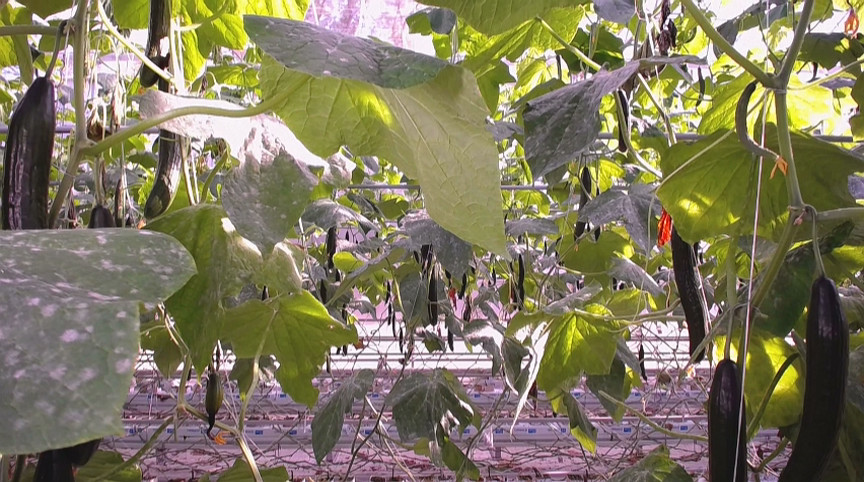cucumber: (779, 277, 848, 480), (1, 78, 57, 231), (669, 227, 707, 363), (710, 359, 746, 482), (143, 130, 188, 219), (140, 1, 171, 87), (31, 449, 76, 482), (574, 168, 592, 241), (206, 371, 223, 417)
